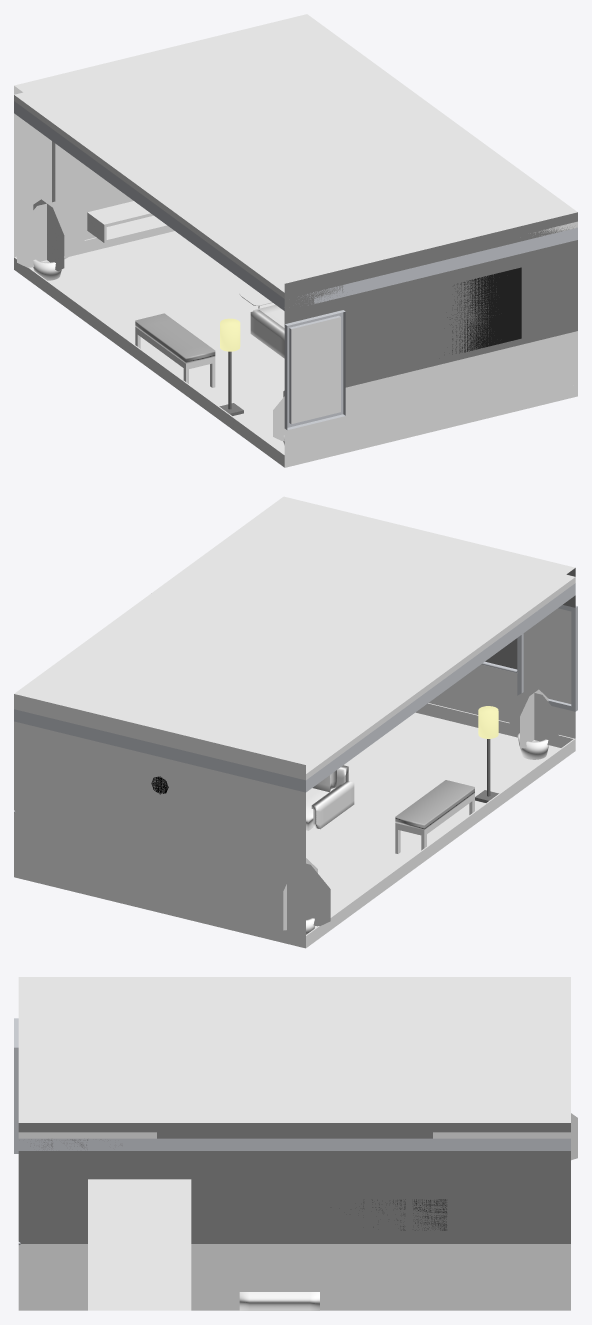
The model's file is InteriorTest.glb.
3 renders of one model, top to bottom at view 1: azimuth 30°, elevation 25°; view 2: azimuth 150°, elevation 25°; view 3: azimuth 270°, elevation 25°, orthographic. The views are drawn at different scales.
Parts seen in each view (by area): view 1: Plafon, Wall, Carpet, Floor, Window.001, Wall.003, Picture, UpperPlafon, Tree07_4K.004, Cube.002, Cube.011, Misc (+7 smaller); view 2: Plafon, Wall.003, Floor, Window.001, Carpet, Misc, Misc.001, Wall, Cube.001, UpperPlafon, Cube.002, Atas Bangku (+8 smaller); view 3: Plafon, Wall.002, Floor, UpperPlafon, Sofa.001, Cube, Cube.001, Window.001, SideTegel.065, SideTegel.066, SideTegel.068, SideTegel.070 (+22 smaller).
Boxes of the visible parts, bbox=[...] form: Plafon: bbox=[14, 14, 577, 283]; Wall: bbox=[284, 212, 577, 467]; Carpet: bbox=[83, 248, 284, 375]; Floor: bbox=[30, 231, 284, 453]; Window.001: bbox=[284, 310, 345, 430]; Wall.003: bbox=[14, 86, 133, 257]; Picture: bbox=[447, 267, 521, 354]; UpperPlafon: bbox=[241, 123, 350, 174]; Tree07_4K.004: bbox=[17, 201, 77, 267]; Cube.002: bbox=[81, 142, 226, 248]; Cube.011: bbox=[87, 201, 169, 242]; Misc: bbox=[52, 141, 84, 245]; Plafon: bbox=[14, 496, 574, 764]; Wall.003: bbox=[14, 694, 305, 935]; Floor: bbox=[314, 712, 560, 928]; Window.001: bbox=[517, 605, 577, 711]; Carpet: bbox=[306, 804, 405, 887]; Misc: bbox=[238, 776, 267, 926]; Misc.001: bbox=[52, 730, 80, 881]; Wall: bbox=[429, 568, 575, 738]; Cube.001: bbox=[14, 703, 373, 780]; UpperPlafon: bbox=[240, 605, 348, 656]; Cube.002: bbox=[364, 624, 508, 730]; Atas Bangku: bbox=[395, 780, 474, 829]; Plafon: bbox=[18, 977, 570, 1122]; Wall.002: bbox=[18, 1123, 570, 1297]; Floor: bbox=[88, 1179, 191, 1310]; UpperPlafon: bbox=[243, 1035, 346, 1064]; Sofa.001: bbox=[239, 1292, 319, 1310]; Cube: bbox=[18, 1132, 156, 1138]; Cube.001: bbox=[433, 1132, 570, 1138]; Window.001: bbox=[14, 1018, 18, 1153]; SideTegel.065: bbox=[18, 1138, 53, 1150]; SideTegel.066: bbox=[53, 1138, 87, 1150]; SideTegel.068: bbox=[122, 1138, 156, 1150]; SideTegel.070: bbox=[191, 1138, 225, 1150].
Bounding box in the file's own units: 5.19 × 3 × 8.17.
Materials: 31 (1 with a texture image).
